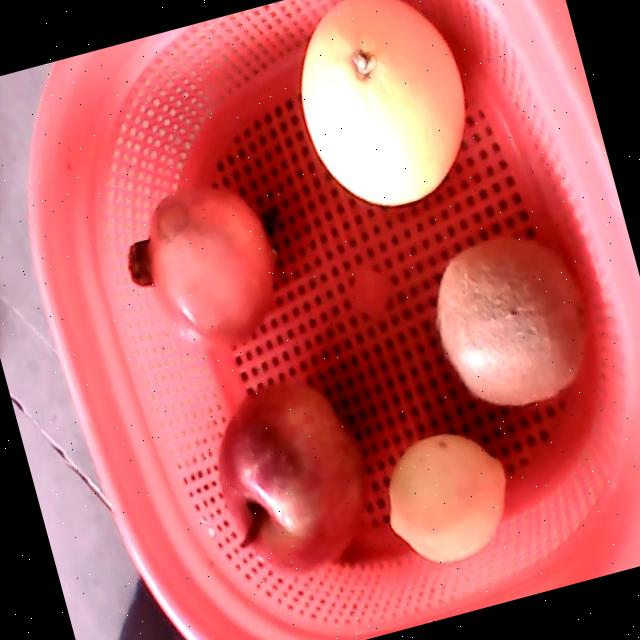apple: (217, 384, 363, 573)
kiwi: (436, 233, 587, 403)
lemon: (386, 432, 503, 563)
orange: (300, 0, 465, 204)
pomegranate: (125, 181, 274, 350)
